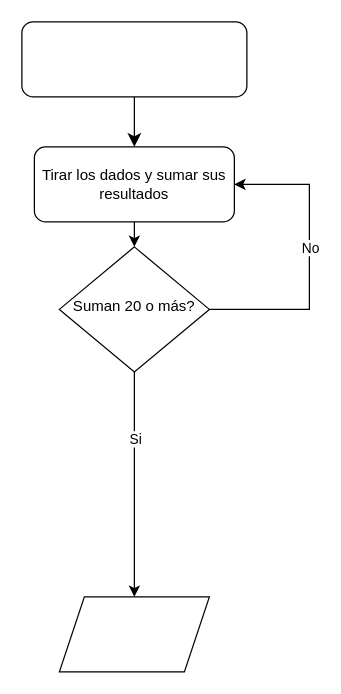
Some shapes in this 341 by 694 pixel diagram are drawn without their labels. Here are the shapes that lost their labels. From the top down, the box of each, then its label:
(21, 21, 247, 97): Crear los dados y variables para guardar los resultados
(58, 596, 209, 672): Sacar tirada por pantalla
